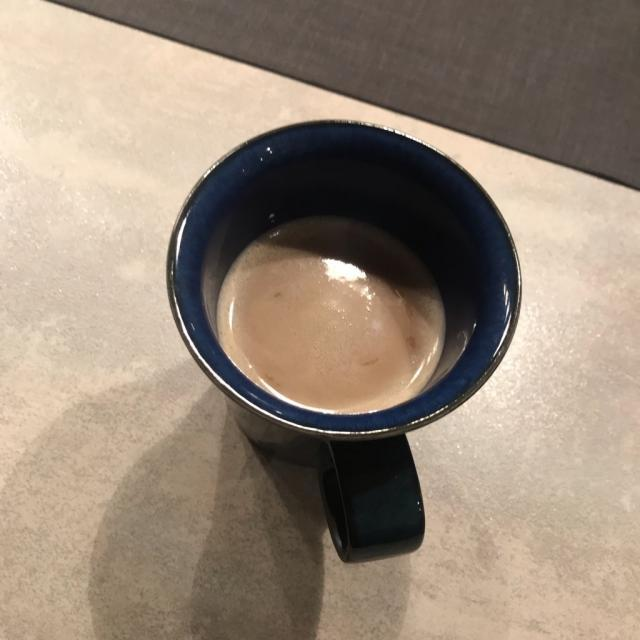coffee: (220, 219, 443, 411)
